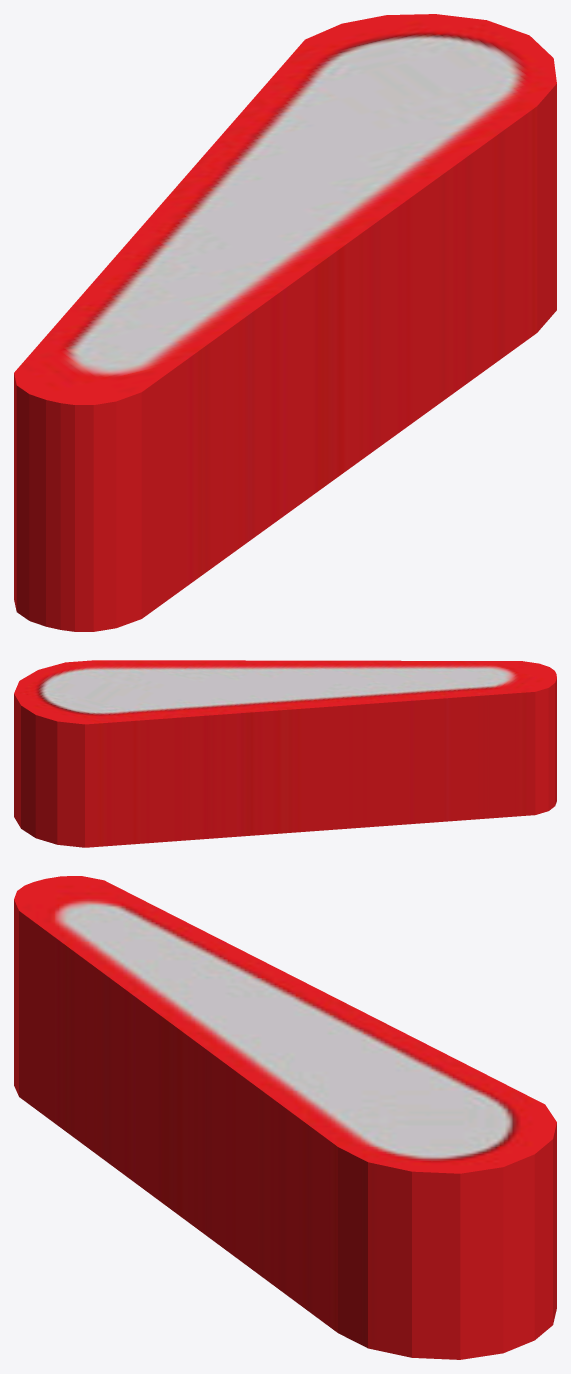
File: Flipper_R.glb
3 renders of one model, top to bottom at view 1: azimuth 30°, elevation 25°; view 2: azimuth 150°, elevation 25°; view 3: azimuth 270°, elevation 25°, orthographic. The views are drawn at different scales.
Visible parts, largest first — view 1: Flipper_R; view 2: Flipper_R; view 3: Flipper_R.
Boxes of the visible parts, left/top/right/bottom form: Flipper_R: left=14, top=14, right=556, bottom=631; Flipper_R: left=14, top=660, right=556, bottom=847; Flipper_R: left=14, top=876, right=556, bottom=1359.
Size of the model in its own units: 2.66 by 0.7748 by 2.05.
1 material, 1 textured.
